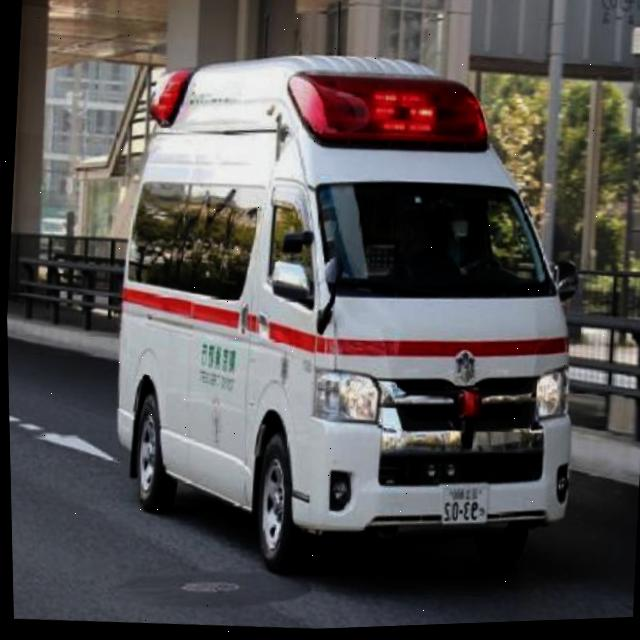emergency: (88, 33, 601, 600)
